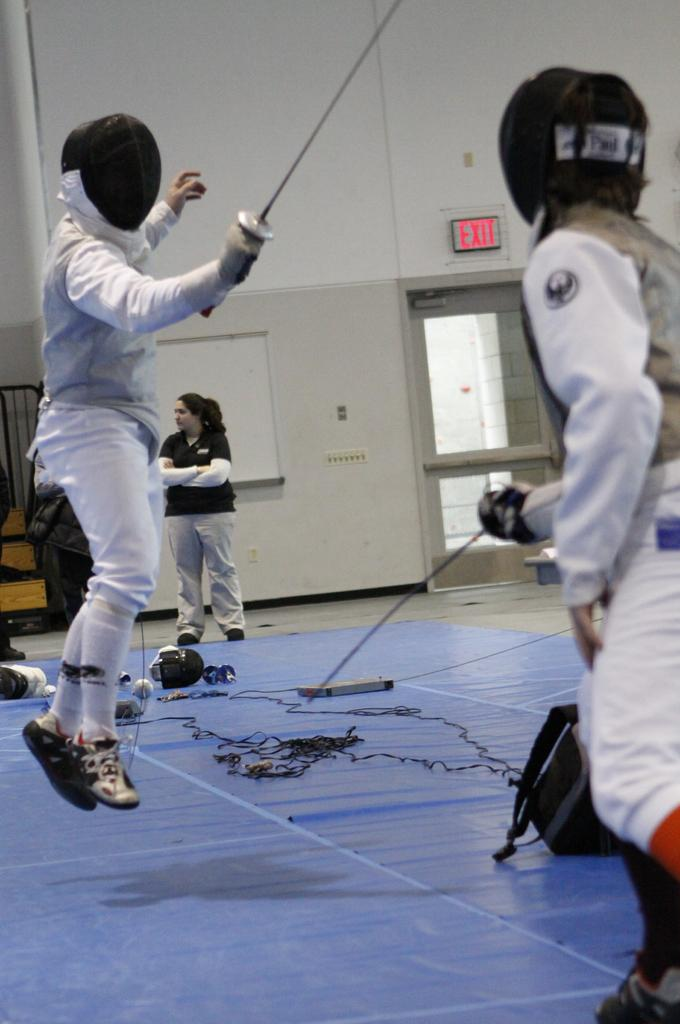knife: (209, 1, 398, 323), (307, 481, 506, 706)
non-violence: (149, 381, 248, 648)
violence: (25, 72, 676, 1024)
